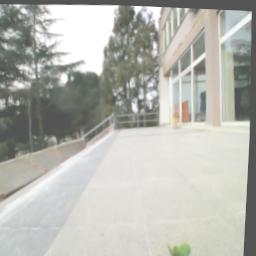herb: (154, 239, 205, 256)
